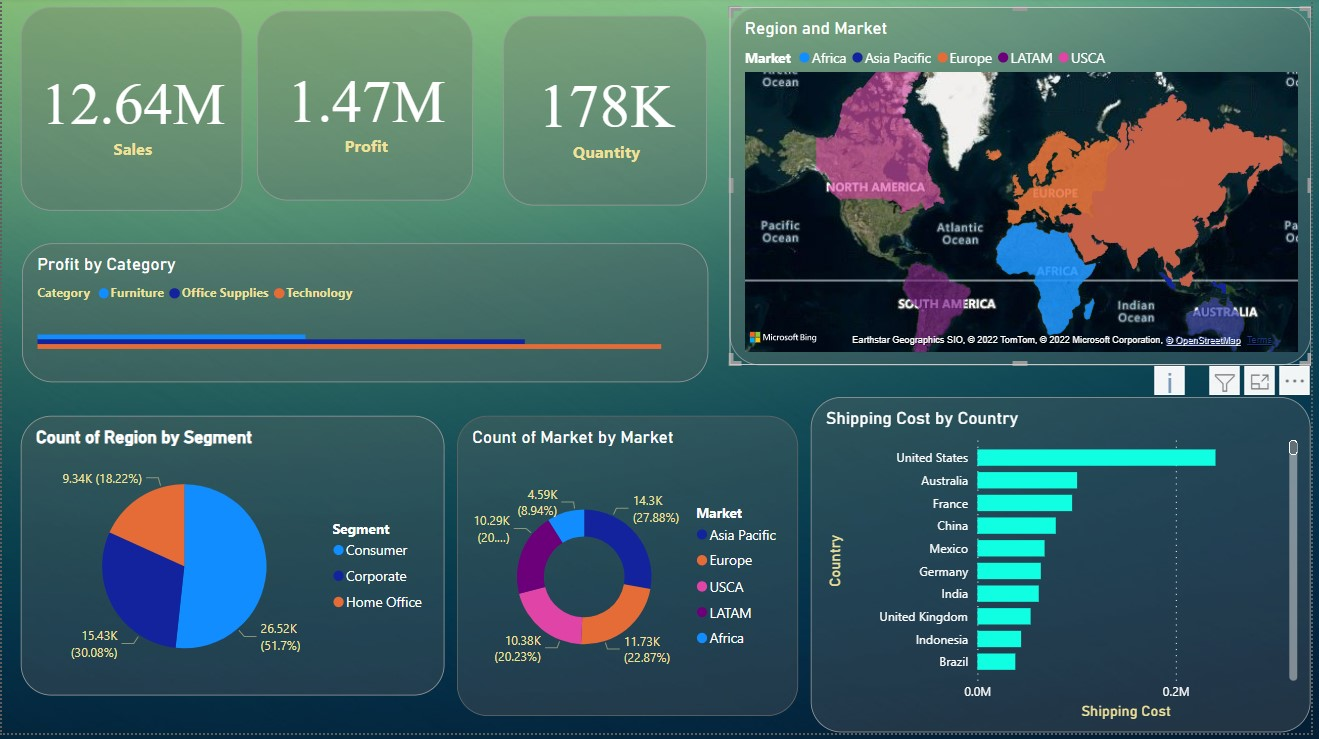

The dashboard page shown, as its layout file describes it:
{"tool":"powerbi","page":{"name":"Page 1","canvas":[1280,720],"ordinal":0},"visuals":[{"type":"card","fields":{"Values":["Sum(Orders.Sales)"]},"box":[17.9,9.6,217,199.1],"z":0},{"type":"card","fields":{"Values":["Sum(Orders.Profit)"]},"box":[250,13.7,211.5,185.4],"z":1},{"type":"card","fields":{"Values":["Sum(Orders.Quantity)"]},"box":[490.3,17.9,199.1,185.4],"z":2},{"type":"filledMap","fields":{"Category":["Orders.Region"],"Series":["Orders.Market"]},"box":[711.4,9.6,568.6,350.2],"z":3},{"type":"clusteredBarChart","fields":{"Y":["Sum(Orders.Profit)"],"Series":["Orders.Category"]},"box":[19.2,240.3,671.6,136],"z":4},{"type":"pieChart","fields":{"Y":["CountNonNull(Orders.Region)"],"Category":["Orders.Segment"]},"box":[17.9,409.3,414.8,273.3],"z":5},{"type":"clusteredBarChart","fields":{"Category":["Orders.Country"],"Y":["Sum(Orders.Shipping Cost)"]},"box":[791.1,391.4,488.9,328.2],"z":7},{"type":"donutChart","fields":{"Y":["CountNonNull(Orders.Market)"],"Category":["Orders.Market"]},"box":[445,409.3,333.7,293.9],"z":8}]}

Visuals, with their boxes in screenshot pixels (x1, y1, x2, y2), scaled from the page's 1280x720 canvas onto the 1319x739 screenshot:
card - Sum(Orders.Sales): (x1=18, y1=10, x2=242, y2=214)
card - Sum(Orders.Profit): (x1=258, y1=14, x2=476, y2=204)
card - Sum(Orders.Quantity): (x1=505, y1=18, x2=710, y2=209)
filledMap - Orders.Region x Orders.Market: (x1=733, y1=10, x2=1318, y2=369)
clusteredBarChart - Sum(Orders.Profit) x Orders.Category: (x1=20, y1=247, x2=712, y2=386)
pieChart - CountNonNull(Orders.Region) x Orders.Segment: (x1=18, y1=420, x2=446, y2=701)
clusteredBarChart - Orders.Country x Sum(Orders.Shipping Cost): (x1=815, y1=402, x2=1318, y2=738)
donutChart - CountNonNull(Orders.Market) x Orders.Market: (x1=459, y1=420, x2=802, y2=722)
